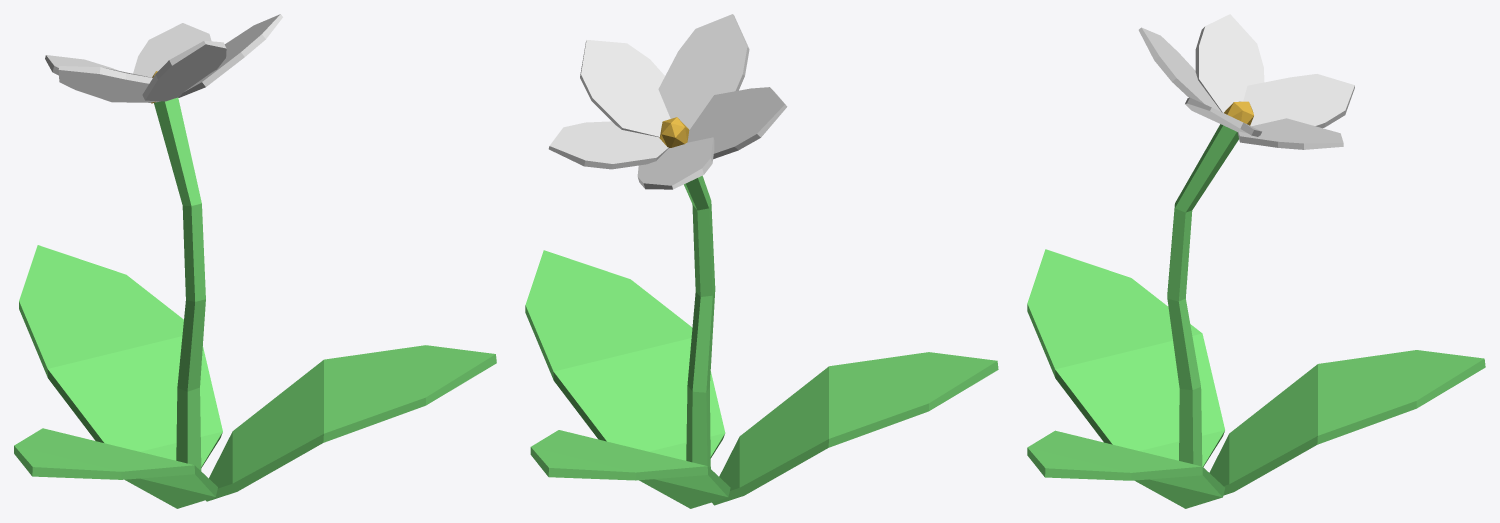
The model's file is flower_1.fbx.
3 views of the same model, side by side, from view 1: azimuth 30°, elevation 25°; view 2: azimuth 150°, elevation 25°; view 3: azimuth 270°, elevation 25° (orthographic). The views are drawn at different scales.
Visible parts, largest first — view 1: flower; view 2: flower; view 3: flower.
Boxes of the visible parts, <box> form: flower: <box>14,14,496,508</box>; flower: <box>525,14,998,508</box>; flower: <box>1027,14,1485,508</box>.
Size of the model in its own units: 19.92 by 19.83 by 17.54.
